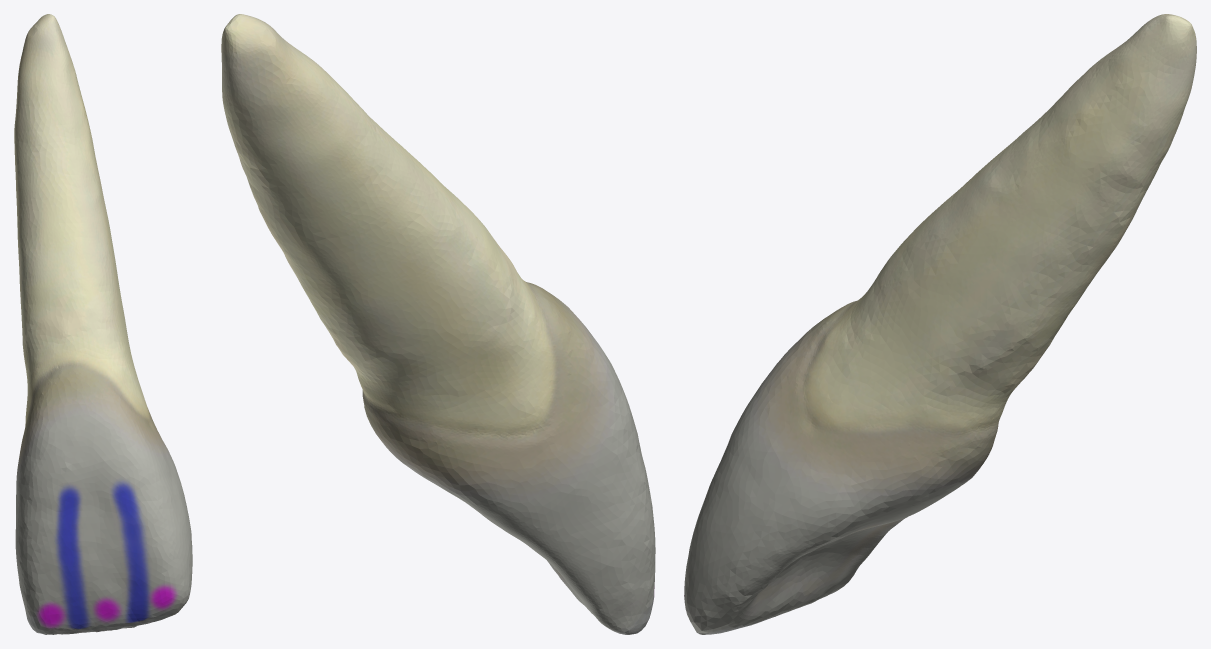
The model's file is 22 -  incisivo lateral superior esquerdo - face vestibular.glb.
The picture shows the model from 3 angles, left to right: view 1: azimuth 30°, elevation 25°; view 2: azimuth 150°, elevation 25°; view 3: azimuth 270°, elevation 25°; orthographic projection. The views are drawn at different scales.
Visible parts, largest first — view 1: 3MFMeshParent_0; view 2: 3MFMeshParent_0; view 3: 3MFMeshParent_0.
Boxes of the visible parts, x1,y1,x2,y2 form: 3MFMeshParent_0: (14, 14, 192, 634); 3MFMeshParent_0: (221, 14, 655, 634); 3MFMeshParent_0: (684, 14, 1196, 634).
Bounding box in the file's own units: 0.2759 × 0.7458 × 0.5104.
Materials: 1 (1 with a texture image).
